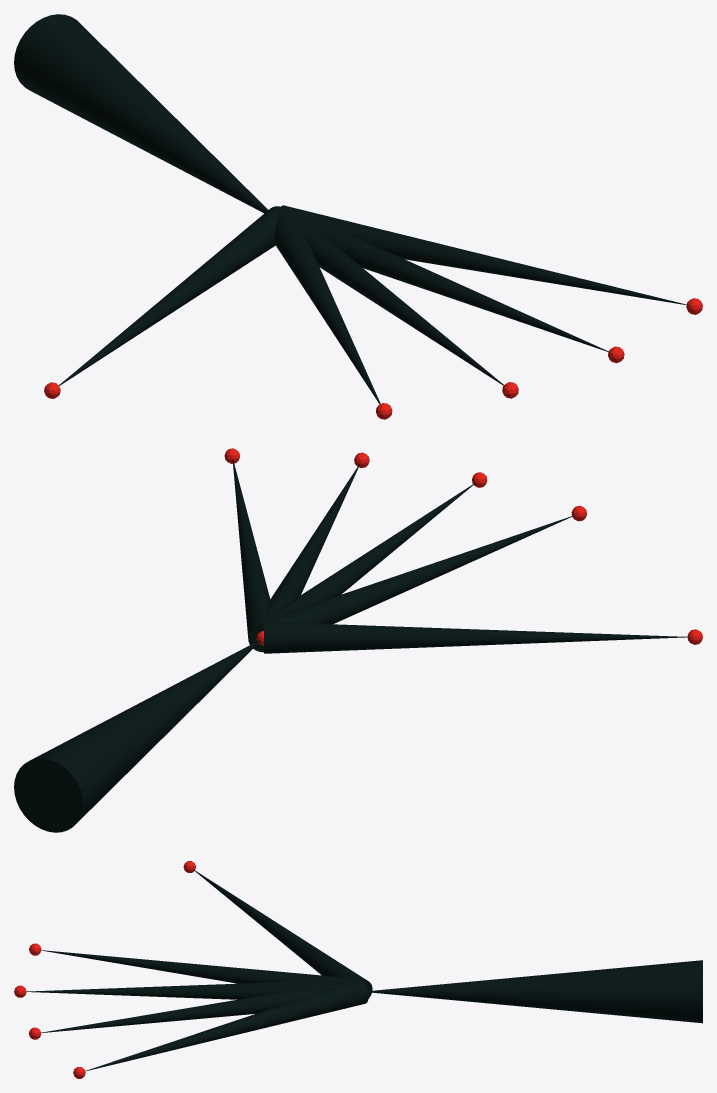
The model's file is LeaftLeapHand.fbx.
3 renders of one model, top to bottom at view 1: azimuth 30°, elevation 25°; view 2: azimuth 150°, elevation 25°; view 3: azimuth 270°, elevation 25°, orthographic. The views are drawn at different scales.
Visible parts, largest first — view 1: Cone, Cone.005, Cone.001, Cone.004, Cone.003, Cone.002; view 2: Cone, Cone.001, Cone.002, Cone.003, Cone.005, Cone.004; view 3: Cone, Cone.005, Cone.004, Cone.003, Cone.002, Cone.001.
Boxes of the visible parts, bbox=[...] form: Cone: bbox=[14, 14, 267, 213]; Cone.005: bbox=[281, 205, 686, 304]; Cone.001: bbox=[59, 206, 280, 385]; Cone.004: bbox=[281, 206, 608, 351]; Cone.003: bbox=[281, 207, 503, 385]; Cone.002: bbox=[274, 207, 380, 404]; Cone: bbox=[14, 640, 260, 832]; Cone.001: bbox=[264, 622, 687, 653]; Cone.002: bbox=[265, 515, 573, 624]; Cone.003: bbox=[265, 482, 475, 622]; Cone.005: bbox=[232, 459, 270, 652]; Cone.004: bbox=[261, 463, 360, 623]; Cone: bbox=[368, 960, 702, 1023]; Cone.005: bbox=[85, 980, 368, 1071]; Cone.004: bbox=[41, 980, 362, 1032]; Cone.003: bbox=[27, 980, 359, 999]; Cone.002: bbox=[41, 950, 360, 983]; Cone.001: bbox=[192, 869, 372, 998].
Bounding box in the file's own units: 7.89 × 1 × 10.9.
